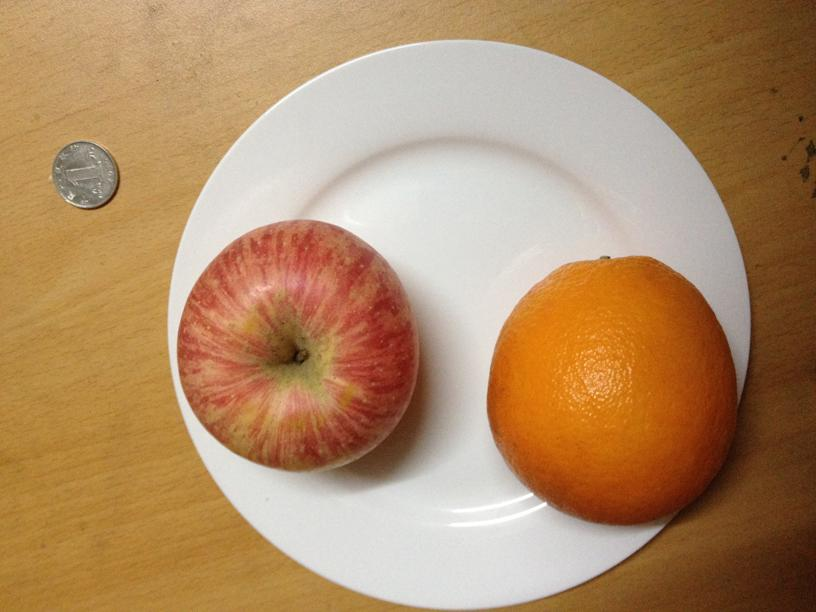apple: (172, 223, 417, 469)
coin: (52, 143, 119, 209)
orange: (489, 252, 736, 523)
